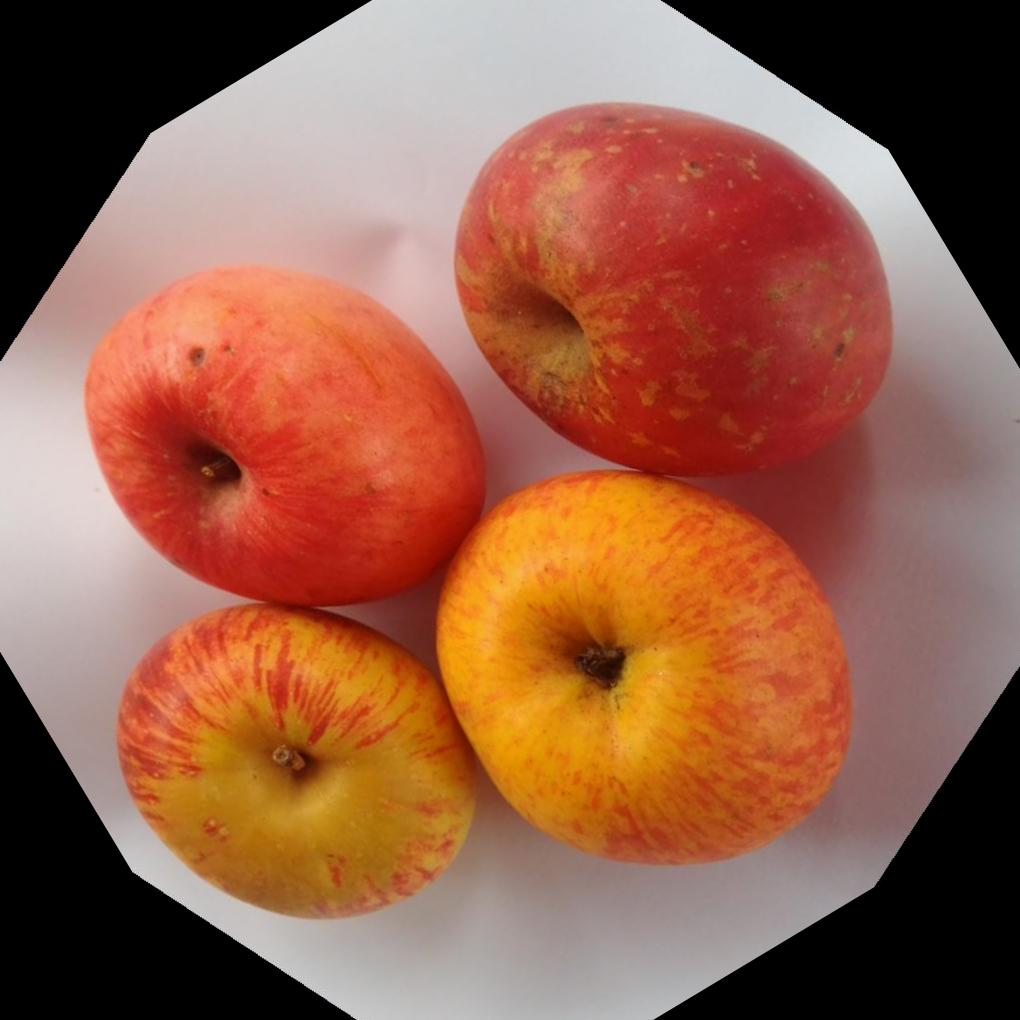FreshGuava: (82, 99, 897, 920)
